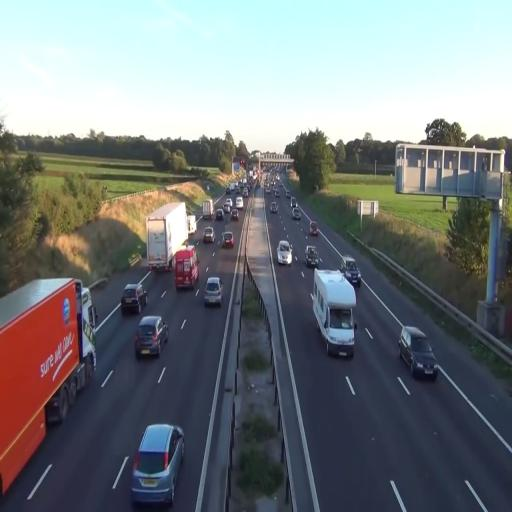vehicle: (0, 276, 97, 498), (0, 279, 97, 499), (131, 421, 185, 508), (131, 424, 184, 506), (312, 267, 356, 359), (313, 269, 357, 358), (146, 202, 190, 271), (146, 203, 188, 271), (399, 326, 438, 380), (399, 325, 436, 380), (134, 314, 168, 359), (135, 316, 168, 359), (172, 246, 200, 293), (174, 246, 199, 289), (120, 284, 148, 315), (121, 284, 146, 316), (340, 256, 361, 287), (342, 258, 362, 288), (204, 276, 222, 306), (205, 277, 223, 306), (276, 238, 294, 265), (342, 256, 360, 278), (305, 244, 321, 266), (278, 241, 291, 265), (305, 246, 319, 268), (220, 231, 236, 249), (202, 226, 216, 244), (203, 200, 214, 219), (203, 226, 215, 243), (222, 232, 234, 248), (214, 208, 226, 222), (188, 215, 196, 234), (310, 222, 318, 236), (292, 208, 301, 220), (216, 209, 224, 220), (231, 210, 239, 221), (236, 197, 243, 209), (223, 203, 231, 213), (271, 202, 277, 213), (230, 182, 236, 193), (291, 197, 297, 207), (226, 199, 233, 207), (243, 187, 248, 197), (242, 178, 247, 185), (226, 187, 231, 194), (236, 187, 240, 194), (286, 191, 290, 198), (275, 190, 279, 197), (266, 187, 270, 193), (272, 180, 275, 186), (280, 183, 283, 187)
